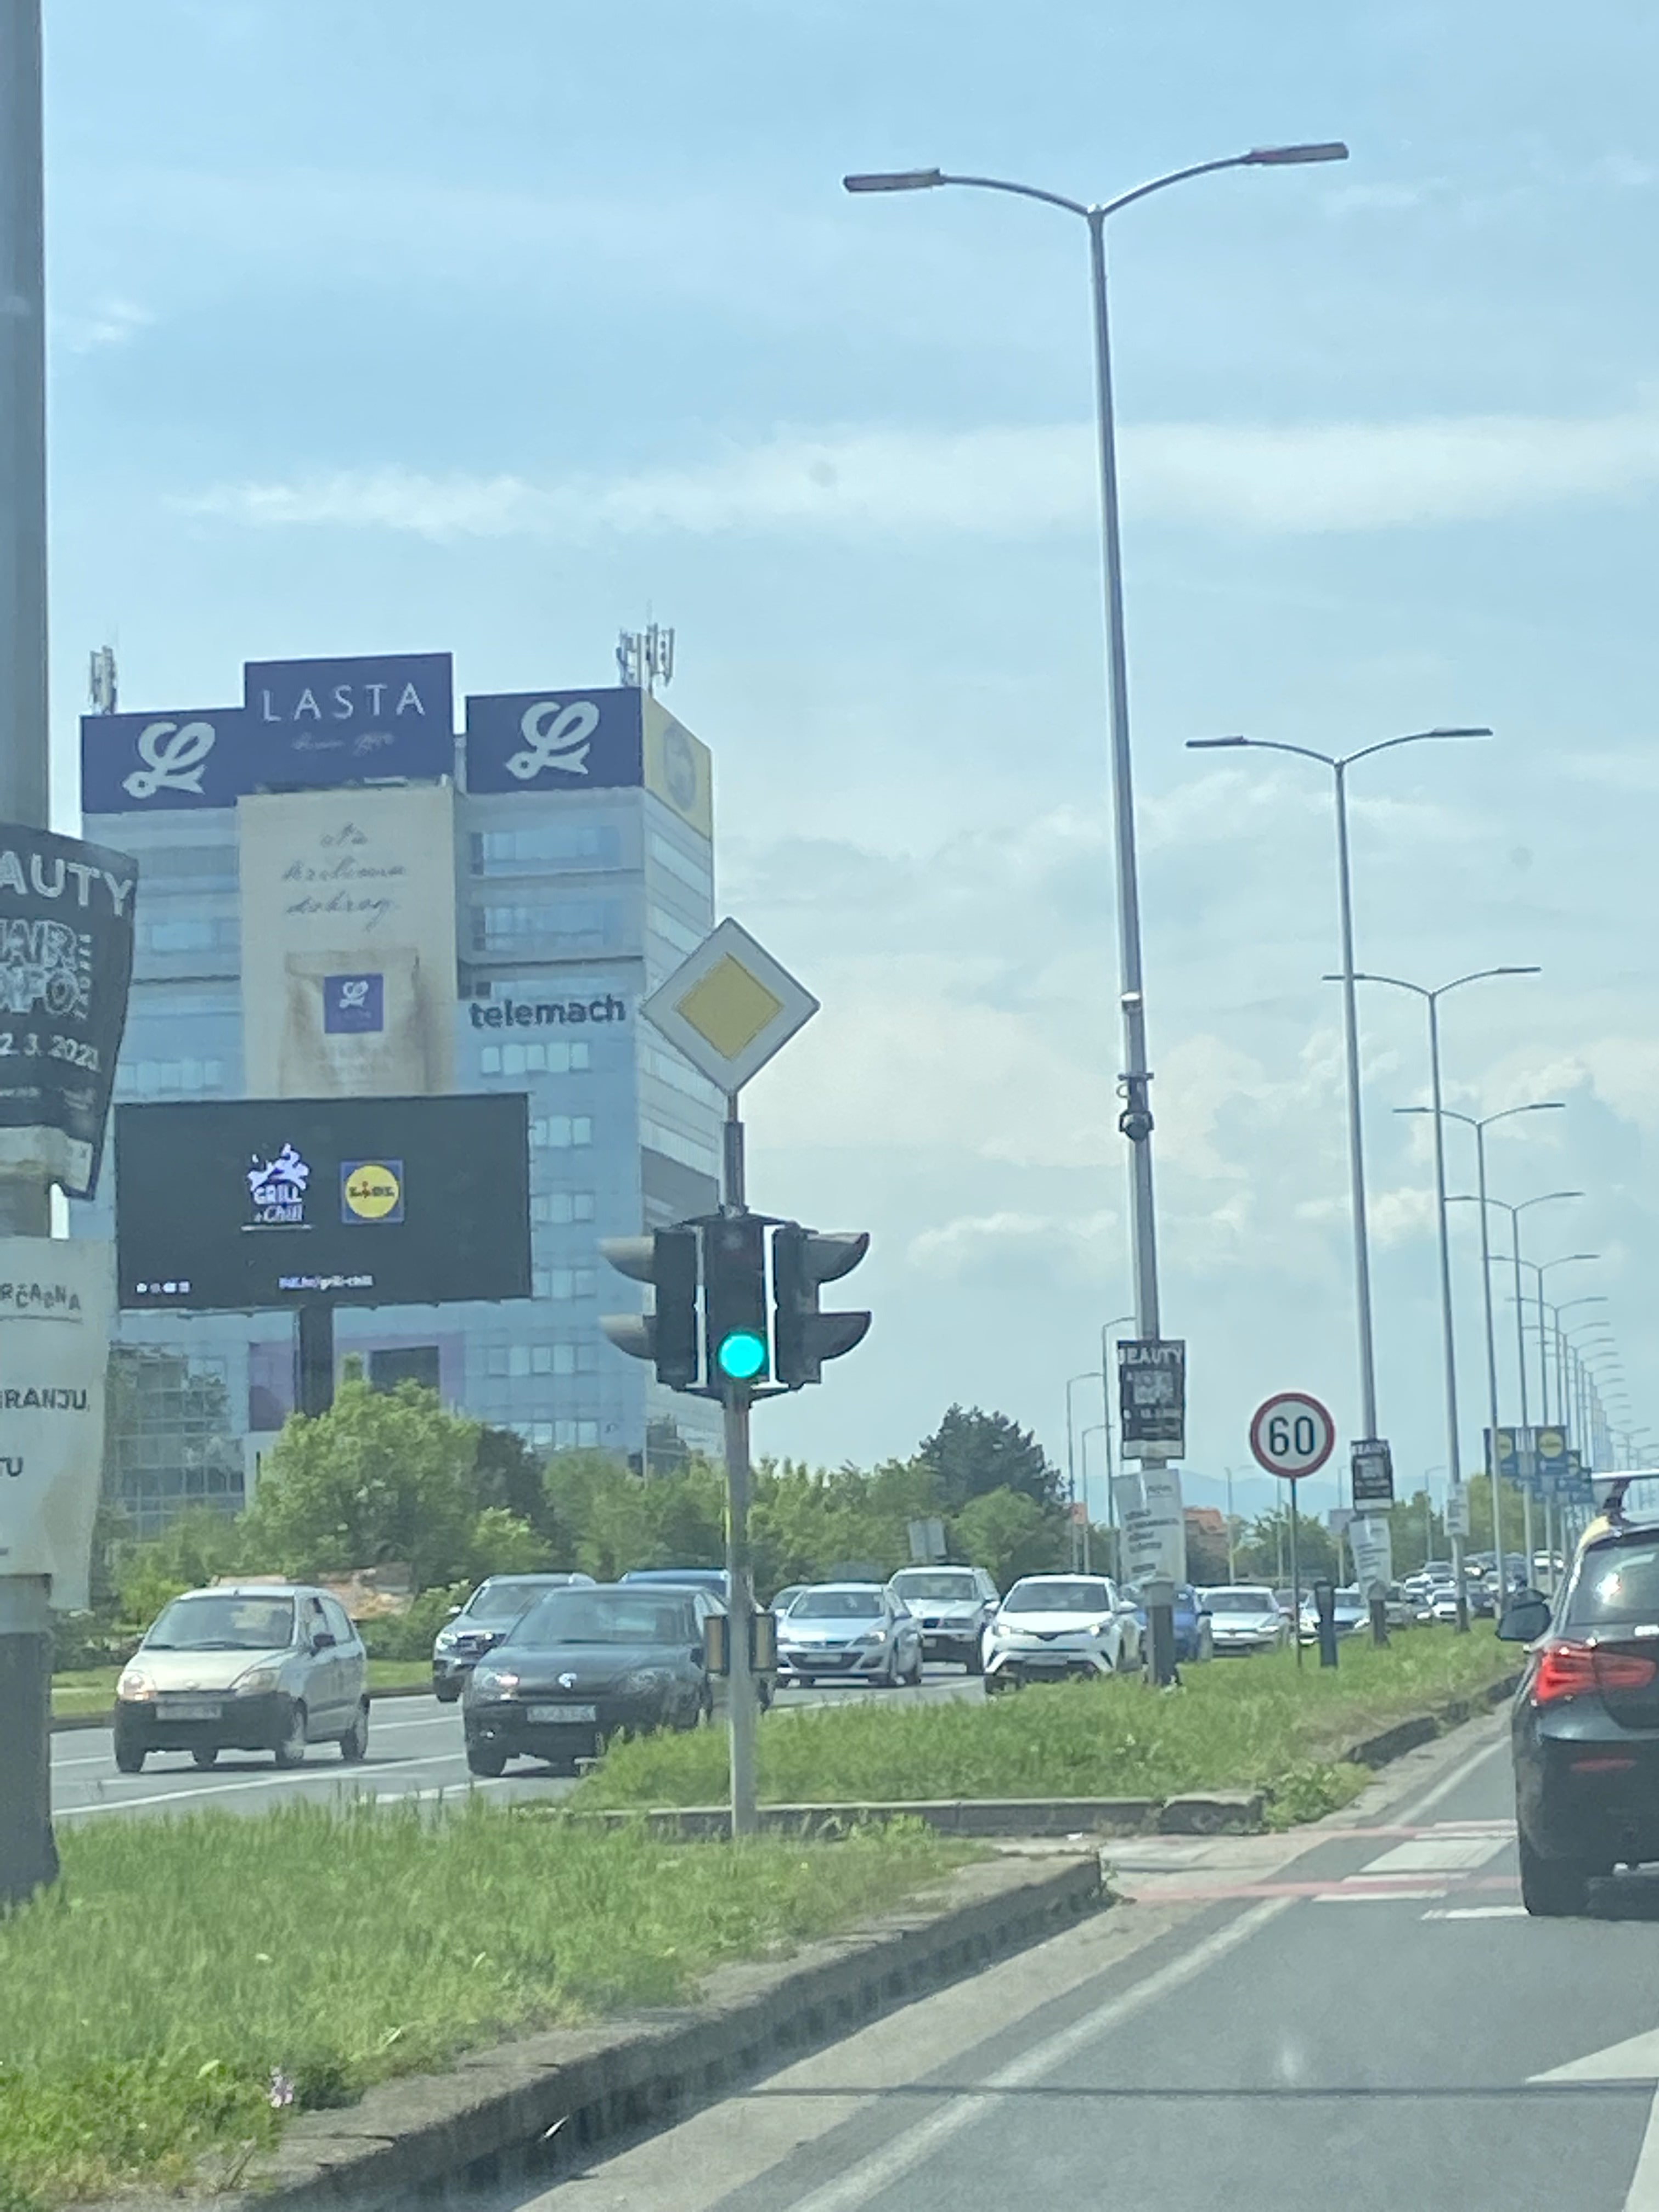Cesta s prednošću prolaska: (636, 916, 823, 1099)
Ograničenje brzine 60: (1248, 1390, 1338, 1480)
